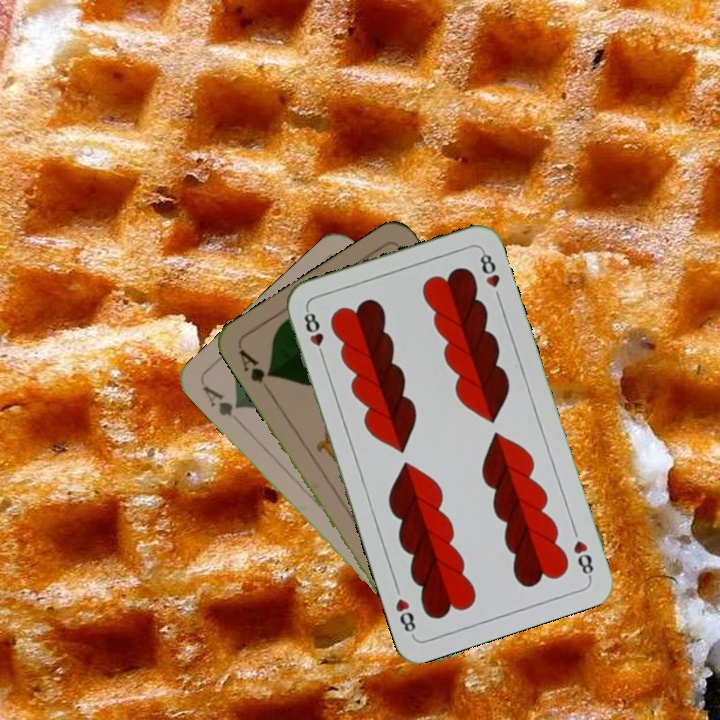GA: (234, 344, 276, 397), (198, 381, 243, 419)
H8: (299, 305, 328, 363), (569, 536, 596, 580)
